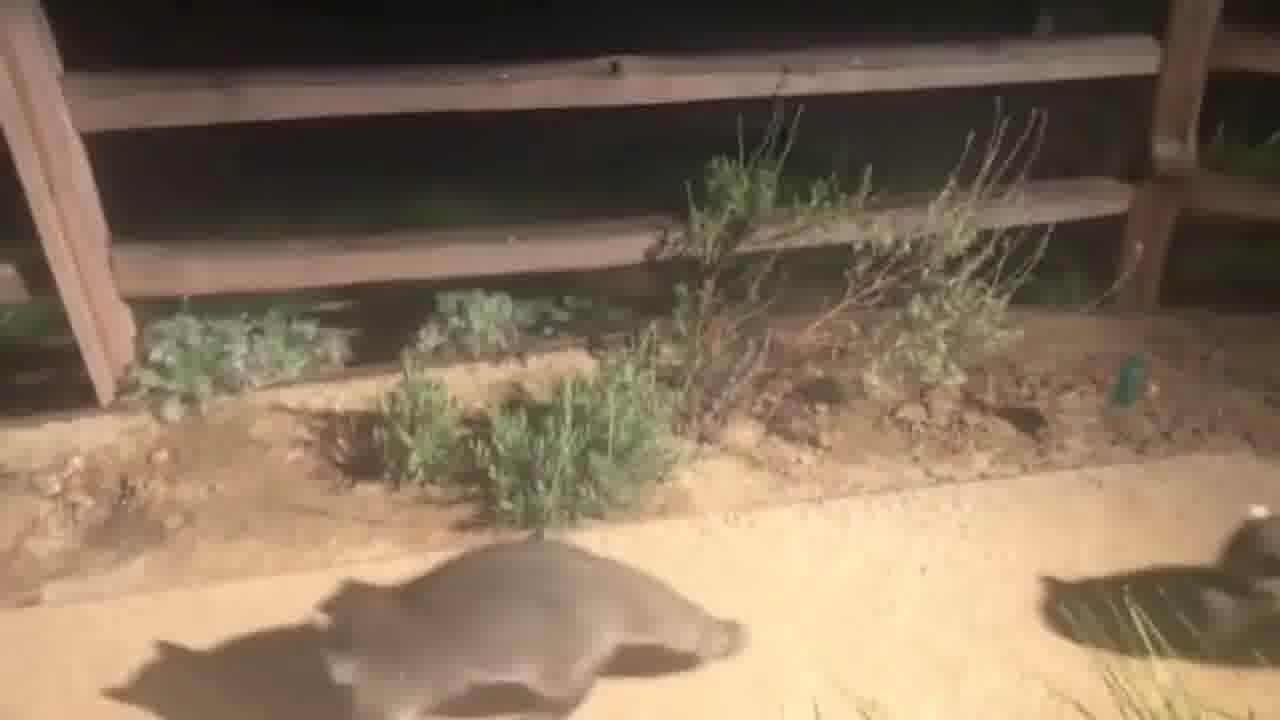raccoon: (298, 523, 758, 720), (1185, 490, 1280, 664)
